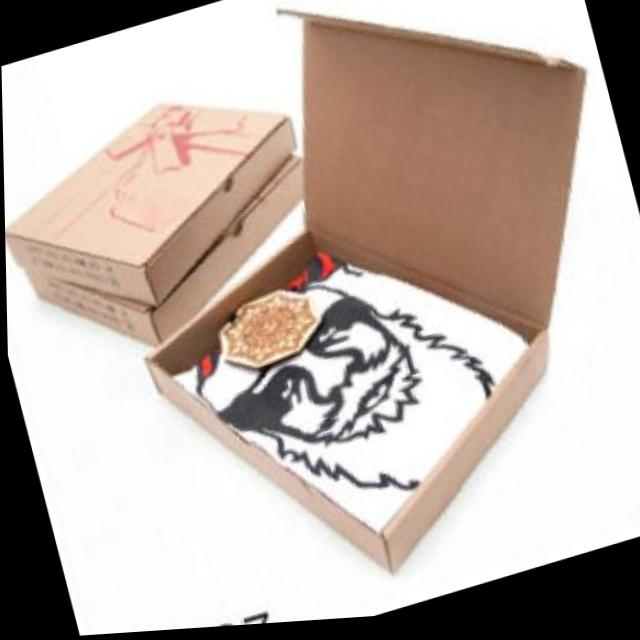box: (68, 0, 640, 636), (9, 152, 375, 424), (1, 48, 335, 345)
